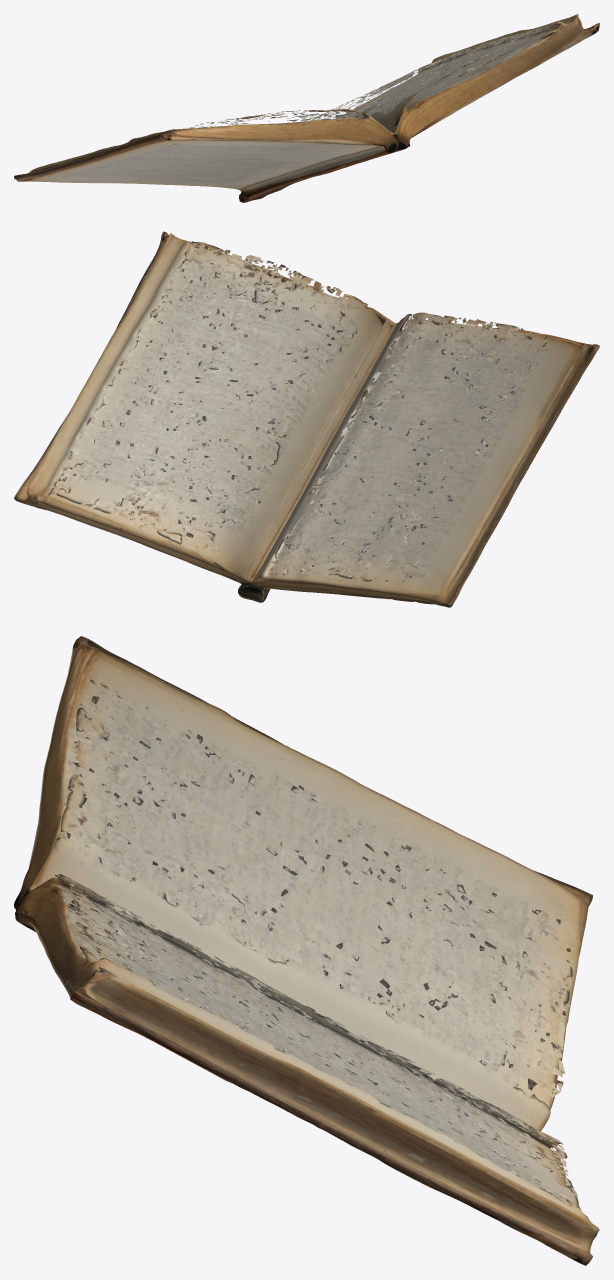
The model's file is Open_Book_0429215330_refine.fbx.
3 renders of one model, top to bottom at view 1: azimuth 30°, elevation 25°; view 2: azimuth 150°, elevation 25°; view 3: azimuth 270°, elevation 25°, orthographic. The views are drawn at different scales.
Parts seen in each view (by area): view 1: Mesh1; view 2: Mesh1; view 3: Mesh1.
Part boxes in pixels (x1,y1,x2,y2): Mesh1: (14,14,599,202); Mesh1: (14,231,599,607); Mesh1: (14,636,599,1265).
Size of the model in its own units: 199 by 98.86 by 134.
1 material, 1 textured.
